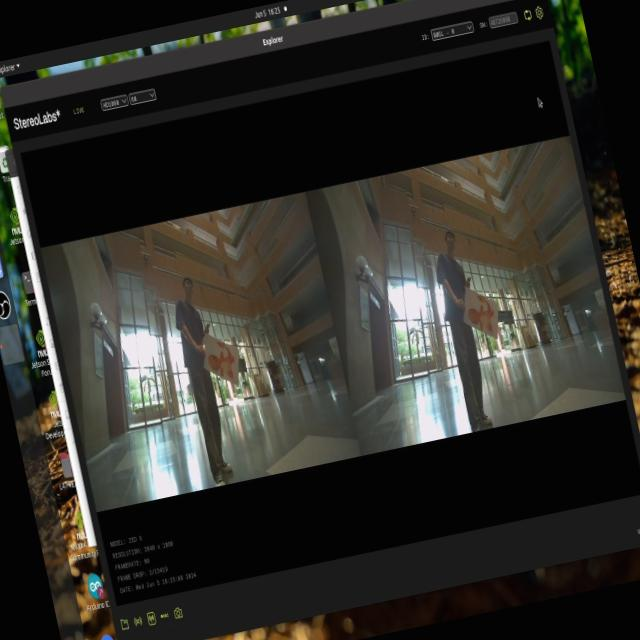red: (200, 330, 242, 390), (464, 289, 499, 341)
